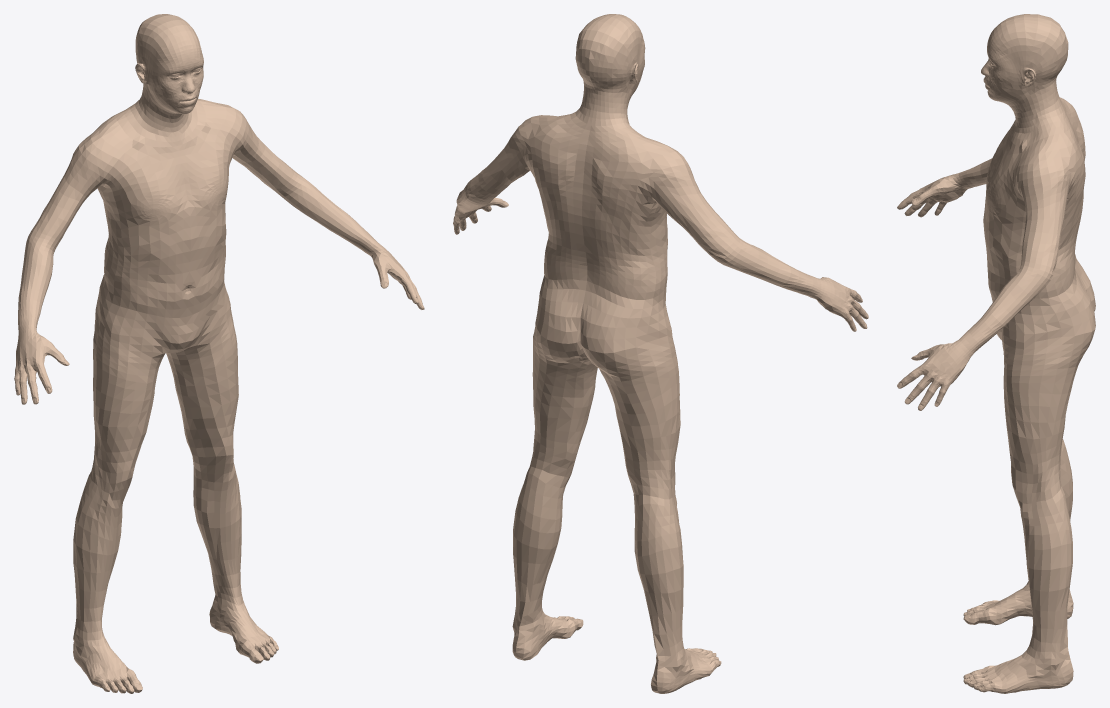
Rendered from male-young-average-low.glb.
The picture shows the model from 3 angles, left to right: view 1: azimuth 30°, elevation 25°; view 2: azimuth 150°, elevation 25°; view 3: azimuth 270°, elevation 25°; orthographic projection.
Visible parts, largest first — view 1: world; view 2: world; view 3: world.
Boxes of the visible parts, <box> form: world: <box>14,14,424,693</box>; world: <box>453,14,868,693</box>; world: <box>897,14,1095,693</box>.
Bounding box in the file's own units: 1.24 × 1.89 × 0.5352.
